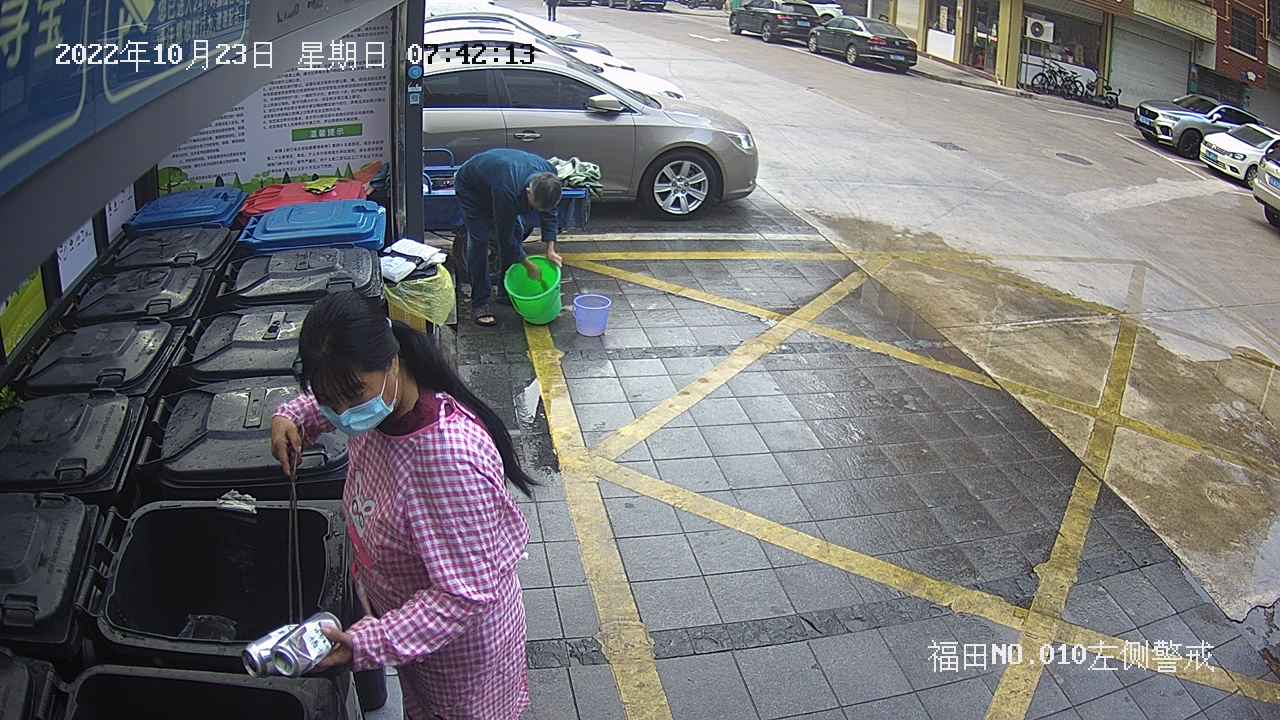lvzhipin: (235, 606, 345, 681)
person: (262, 287, 544, 720), (449, 145, 569, 332)
youtong: (504, 251, 565, 328), (570, 290, 613, 339)
